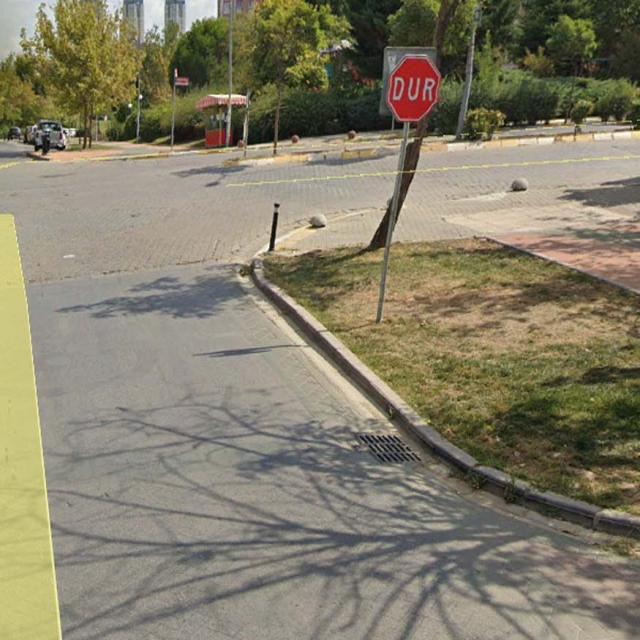dur: (385, 54, 441, 124)
